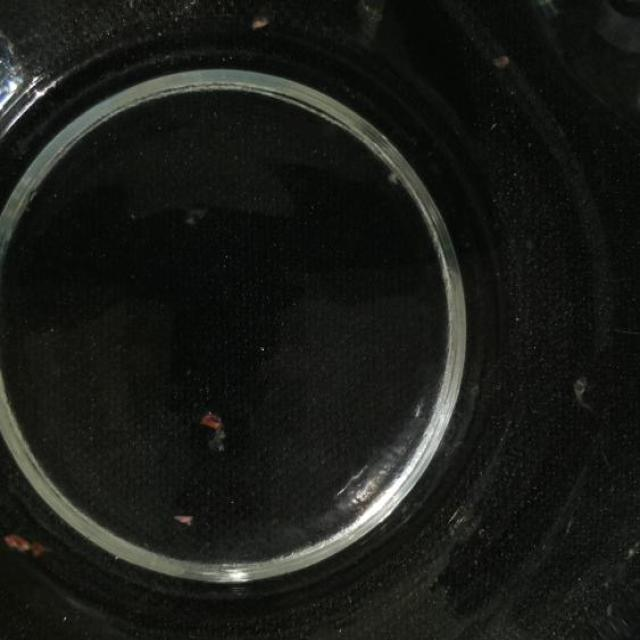fiber: (5, 528, 50, 566), (198, 409, 228, 451), (175, 508, 197, 532), (576, 373, 588, 412), (387, 170, 409, 188), (255, 12, 275, 30)
